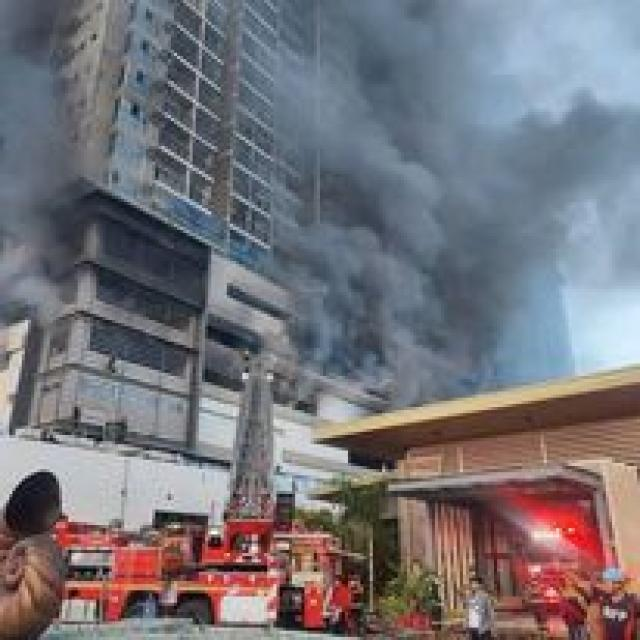Smoke: (330, 9, 640, 342), (1, 0, 83, 309)
